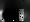person: (1, 9, 8, 22), (20, 10, 25, 22)
